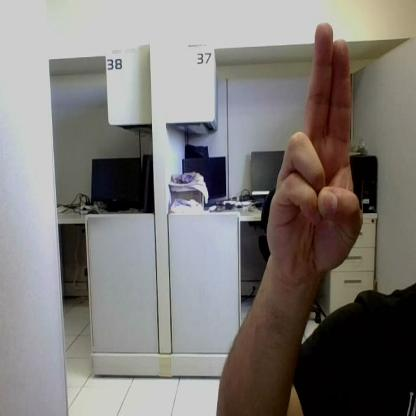U: (267, 23, 362, 270)
